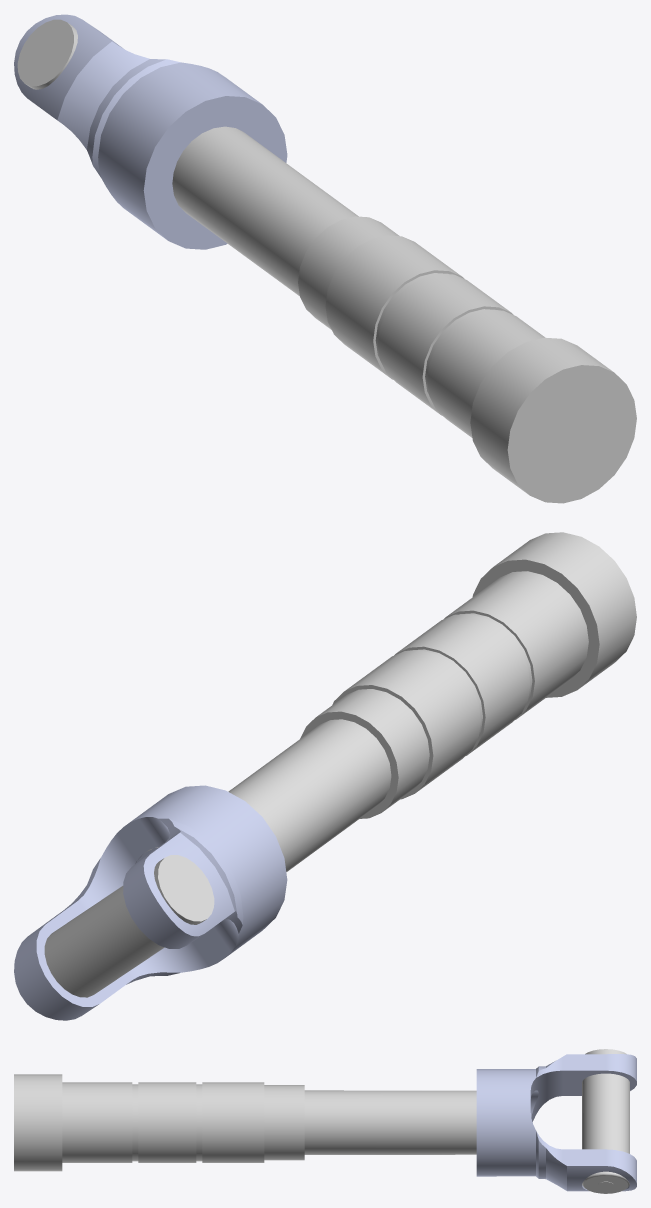
File: RevoluteLinkBase.glb
The picture shows the model from 3 angles, top to bottom: view 1: azimuth 30°, elevation 25°; view 2: azimuth 150°, elevation 25°; view 3: azimuth 270°, elevation 25°; orthographic projection. The views are drawn at different scales.
Visible parts, largest first — view 1: IRB360_6-1600-STD-4D_rev03_RevoluteLinkBase_CAD; view 2: IRB360_6-1600-STD-4D_rev03_RevoluteLinkBase_CAD; view 3: IRB360_6-1600-STD-4D_rev03_RevoluteLinkBase_CAD.
Part boxes in pixels (x1,y1,x2,y2): IRB360_6-1600-STD-4D_rev03_RevoluteLinkBase_CAD: (14,14,636,503); IRB360_6-1600-STD-4D_rev03_RevoluteLinkBase_CAD: (14,532,636,1020); IRB360_6-1600-STD-4D_rev03_RevoluteLinkBase_CAD: (14,1049,636,1193).
Size of the model in its own units: 0.0251 by 0.0238 by 0.1158.
